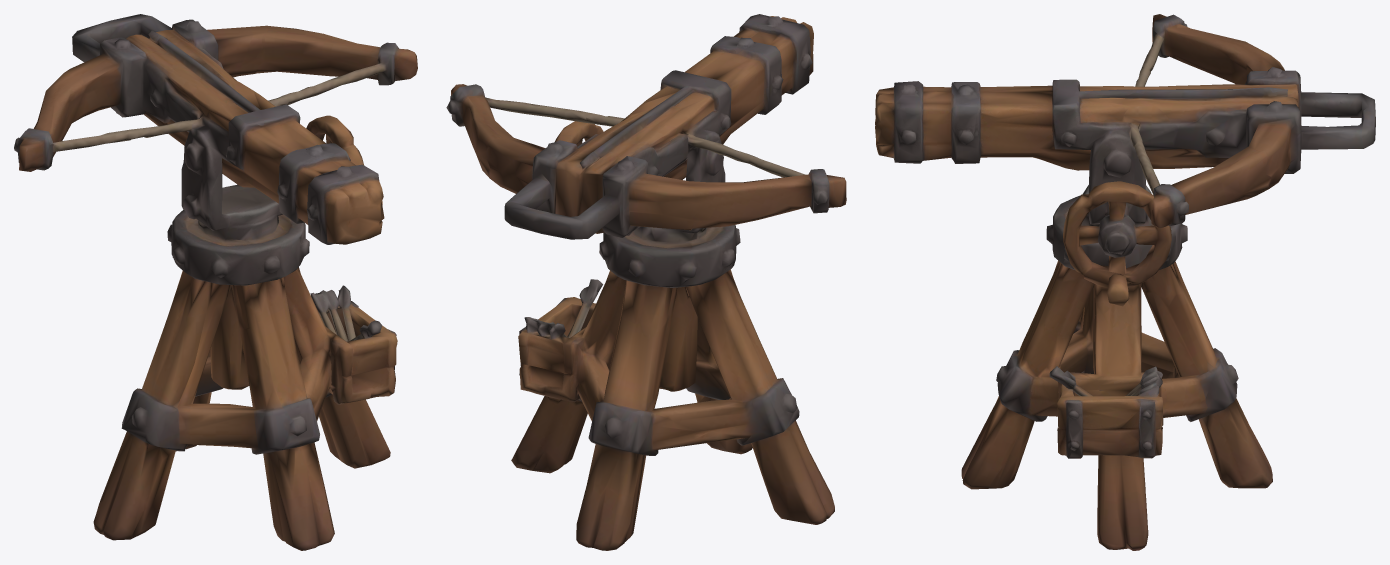
The model's file is skill_turret-Ddx5pV8t.glb.
3 views of the same model, side by side, from view 1: azimuth 30°, elevation 25°; view 2: azimuth 150°, elevation 25°; view 3: azimuth 270°, elevation 25° (orthographic).
Visible parts, largest first — view 1: tripo_node_d984ee09-400f-4236-b6b6-8e73d56e4ec5; view 2: tripo_node_d984ee09-400f-4236-b6b6-8e73d56e4ec5; view 3: tripo_node_d984ee09-400f-4236-b6b6-8e73d56e4ec5.
Boxes of the visible parts, x1,y1,x2,y2 form: tripo_node_d984ee09-400f-4236-b6b6-8e73d56e4ec5: [14, 14, 417, 550]; tripo_node_d984ee09-400f-4236-b6b6-8e73d56e4ec5: [446, 14, 846, 550]; tripo_node_d984ee09-400f-4236-b6b6-8e73d56e4ec5: [875, 14, 1375, 550].
Size of the model in its own units: 0.9031 by 0.8725 by 1.
Materials: 1 (1 with a texture image).
